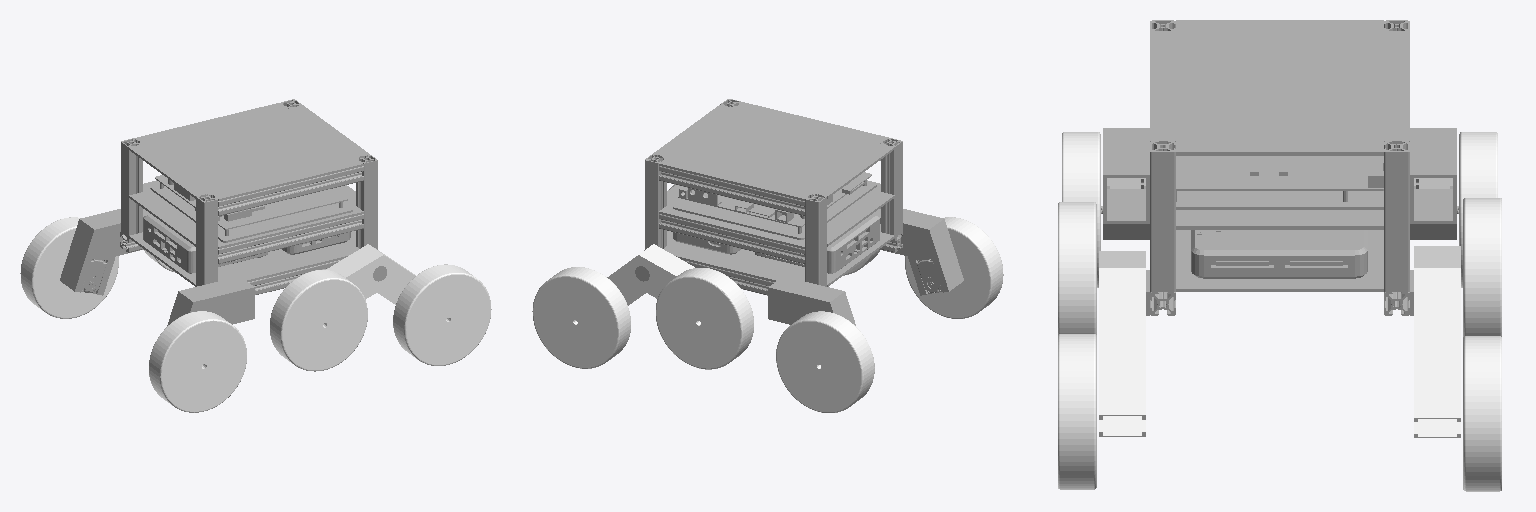
URDF robot description (rockerbogie_urdf_modified):
<?xml version="1.0" encoding="utf-8"?>
<!-- This URDF was automatically created by SolidWorks to URDF Exporter! Originally created by [author] ([email redacted]) 
     Commit Version: 1.6.0-1-g15f4949  Build Version: 1.6.7594.29634
     For more information, please see http://wiki.ros.org/sw_urdf_exporter -->
<robot
  name="rockerbogie_urdf_modified">
  <link
    name="base_link">
    <inertial>
      <origin
        xyz="-0.0118358388008823 -9.8542609147656E-07 0.156569924779582"
        rpy="0 0 0" />
      <mass
        value="2.47556235264343" />
      <inertia
        ixx="0.0033305673628084"
        ixy="1.27251014235594E-06"
        ixz="-3.10947731589501E-05"
        iyy="0.00593147232902395"
        iyz="1.03891627054019E-07"
        izz="0.00841295540740798" />
    </inertial>
    <visual>
      <origin
        xyz="0 0 0"
        rpy="0 0 0" />
      <geometry>
        <mesh
          filename="package://rockerbogie_urdf_modified/meshes/base_link.STL" />
      </geometry>
      <material
        name="">
        <color
          rgba="0.752941176470588 0.752941176470588 0.752941176470588 1" />
      </material>
    </visual>
    <collision>
      <origin
        xyz="0 0 0"
        rpy="0 0 0" />
      <geometry>
        <mesh
          filename="package://rockerbogie_urdf_modified/meshes/base_link.STL" />
      </geometry>
    </collision>
  </link>
  <link
    name="body_link">
    <inertial>
      <origin
        xyz="-0.0118358388008823 -9.85426091421049E-07 0.036580460556831"
        rpy="0 0 0" />
      <mass
        value="2.47556235264343" />
      <inertia
        ixx="0.0033305673628084"
        ixy="1.27251014235594E-06"
        ixz="-3.10947731589501E-05"
        iyy="0.00593147232902395"
        iyz="1.03891627054022E-07"
        izz="0.00841295540740798" />
    </inertial>
    <visual>
      <origin
        xyz="0 0 0"
        rpy="0 0 0" />
      <geometry>
        <mesh
          filename="package://rockerbogie_urdf_modified/meshes/body_link.STL" />
      </geometry>
      <material
        name="">
        <color
          rgba="0.752941176470588 0.752941176470588 0.752941176470588 1" />
      </material>
    </visual>
    <collision>
      <origin
        xyz="0 0 0"
        rpy="0 0 0" />
      <geometry>
        <mesh
          filename="package://rockerbogie_urdf_modified/meshes/body_link.STL" />
      </geometry>
    </collision>
  </link>
  <joint
    name="body_joint"
    type="fixed">
    <origin
      xyz="0 0 0.119989464222751"
      rpy="0 0 0" />
    <parent
      link="base_link" />
    <child
      link="body_link" />
    <axis
      xyz="0 0 0" />
  </joint>
  <link
    name="leg1_link">
    <inertial>
      <origin
        xyz="-0.00545596256305897 -0.0180000000000001 -0.0239335095394691"
        rpy="0 0 0" />
      <mass
        value="0.0837983492960037" />
      <inertia
        ixx="6.79563222066731E-05"
        ixy="-1.11485158774801E-19"
        ixz="4.1605414393665E-05"
        iyy="0.000279469531497121"
        iyz="5.20756959867287E-20"
        izz="0.000240981053606066" />
    </inertial>
    <visual>
      <origin
        xyz="0 0 0"
        rpy="0 0 0" />
      <geometry>
        <mesh
          filename="package://rockerbogie_urdf_modified/meshes/leg1_link.STL" />
      </geometry>
      <material
        name="">
        <color
          rgba="1 1 1 1" />
      </material>
    </visual>
    <collision>
      <origin
        xyz="0 0 0"
        rpy="0 0 0" />
      <geometry>
        <mesh
          filename="package://rockerbogie_urdf_modified/meshes/leg1_link.STL" />
      </geometry>
    </collision>
  </link>
  <joint
    name="leg1_joint"
    type="continuous">
    <origin
      xyz="0.0999999999999999 0.139 -0.0099978167969167"
      rpy="0 0 0" />
    <parent
      link="body_link" />
    <child
      link="leg1_link" />
    <axis
      xyz="0 1 0" />
    <limit
      lower="0"
      upper="0"
      effort="0"
      velocity="0" />
  </joint>
  <link
    name="11_link">
    <inertial>
      <origin
        xyz="6.66133814775094E-16 0.01225 -4.16333634234434E-17"
        rpy="0 0 0" />
      <mass
        value="0.344407191683159" />
      <inertia
        ixx="0.000336046122038097"
        ixy="-1.97510250366014E-19"
        ixz="4.18610807918571E-20"
        iyy="0.000620610570997954"
        iyz="-5.39983504407256E-23"
        izz="0.000336046122038097" />
    </inertial>
    <visual>
      <origin
        xyz="0 0 0"
        rpy="0 0 0" />
      <geometry>
        <mesh
          filename="package://rockerbogie_urdf_modified/meshes/11_link.STL" />
      </geometry>
      <material
        name="">
        <color
          rgba="1 1 1 1" />
      </material>
    </visual>
    <collision>
      <origin
        xyz="0 0 0"
        rpy="0 0 0" />
      <geometry>
        <mesh
          filename="package://rockerbogie_urdf_modified/meshes/11_link.STL" />
      </geometry>
    </collision>
  </link>
  <joint
    name="11_joint"
    type="continuous">
    <origin
      xyz="0.073323 0.00475 -0.067998"
      rpy="0 0 0" />
    <parent
      link="leg1_link" />
    <child
      link="11_link" />
    <axis
      xyz="0 1 0" />
  </joint>
  <link
    name="12_link">
    <inertial>
      <origin
        xyz="0 0.01225 9.0205620750794E-17"
        rpy="0 0 0" />
      <mass
        value="0.344407191683159" />
      <inertia
        ixx="0.000336046122038096"
        ixy="-1.97611497272991E-19"
        ixz="-3.87287348324854E-20"
        iyy="0.000620610570997954"
        iyz="1.88994226302792E-22"
        izz="0.000336046122038096" />
    </inertial>
    <visual>
      <origin
        xyz="0 0 0"
        rpy="0 0 0" />
      <geometry>
        <mesh
          filename="package://rockerbogie_urdf_modified/meshes/12_link.STL" />
      </geometry>
      <material
        name="">
        <color
          rgba="1 1 1 1" />
      </material>
    </visual>
    <collision>
      <origin
        xyz="0 0 0"
        rpy="0 0 0" />
      <geometry>
        <mesh
          filename="package://rockerbogie_urdf_modified/meshes/12_link.STL" />
      </geometry>
    </collision>
  </link>
  <joint
    name="12_joint"
    type="continuous">
    <origin
      xyz="-0.095549 0.00475 -0.029501"
      rpy="0 0 0" />
    <parent
      link="leg1_link" />
    <child
      link="12_link" />
    <axis
      xyz="0 1 0" />
  </joint>
  <link
    name="leg2_link">
    <inertial>
      <origin
        xyz="-0.0046258540709096 0.0180000000000002 -0.0241077141280547"
        rpy="0 0 0" />
      <mass
        value="0.0837983492960036" />
      <inertia
        ixx="6.52897967480928E-05"
        ixy="8.86085270551766E-18"
        ixz="3.55320319937771E-05"
        iyy="0.000279469531497121"
        iyz="-1.49938998508397E-18"
        izz="0.000243647579064646" />
    </inertial>
    <visual>
      <origin
        xyz="0 0 0"
        rpy="0 0 0" />
      <geometry>
        <mesh
          filename="package://rockerbogie_urdf_modified/meshes/leg2_link.STL" />
      </geometry>
      <material
        name="">
        <color
          rgba="1 1 1 1" />
      </material>
    </visual>
    <collision>
      <origin
        xyz="0 0 0"
        rpy="0 0 0" />
      <geometry>
        <mesh
          filename="package://rockerbogie_urdf_modified/meshes/leg2_link.STL" />
      </geometry>
    </collision>
  </link>
  <joint
    name="leg2_joint"
    type="continuous">
    <origin
      xyz="0.0999999999999941 -0.139000000000004 -0.0099978167969167"
      rpy="0 0 0" />
    <parent
      link="body_link" />
    <child
      link="leg2_link" />
    <axis
      xyz="0 -1 0" />
    <limit
      lower="0"
      upper="0"
      effort="0"
      velocity="0" />
  </joint>
  <link
    name="21_link">
    <inertial>
      <origin
        xyz="4.44089209850063E-16 -0.01225 -8.04911692853238E-16"
        rpy="0 0 0" />
      <mass
        value="0.344407191683159" />
      <inertia
        ixx="0.000336046122038096"
        ixy="1.16380553020743E-17"
        ixz="3.51149848785042E-20"
        iyy="0.000620610570997954"
        iyz="7.83804194481339E-20"
        izz="0.000336046122038096" />
    </inertial>
    <visual>
      <origin
        xyz="0 0 0"
        rpy="0 0 0" />
      <geometry>
        <mesh
          filename="package://rockerbogie_urdf_modified/meshes/21_link.STL" />
      </geometry>
      <material
        name="">
        <color
          rgba="1 1 1 1" />
      </material>
    </visual>
    <collision>
      <origin
        xyz="0 0 0"
        rpy="0 0 0" />
      <geometry>
        <mesh
          filename="package://rockerbogie_urdf_modified/meshes/21_link.STL" />
      </geometry>
    </collision>
  </link>
  <joint
    name="21_joint"
    type="continuous">
    <origin
      xyz="0.075629 -0.00475 -0.065424"
      rpy="0 0 0" />
    <parent
      link="leg2_link" />
    <child
      link="21_link" />
    <axis
      xyz="0 1 0" />
  </joint>
  <link
    name="22_link">
    <inertial>
      <origin
        xyz="-4.9960036108132E-16 -0.01225 -4.85722573273506E-17"
        rpy="0 0 0" />
      <mass
        value="0.344407191683159" />
      <inertia
        ixx="0.000336046122038096"
        ixy="1.17058196548046E-17"
        ixz="3.34734613931062E-20"
        iyy="0.000620610570997954"
        iyz="1.78560626036173E-21"
        izz="0.000336046122038097" />
    </inertial>
    <visual>
      <origin
        xyz="0 0 0"
        rpy="0 0 0" />
      <geometry>
        <mesh
          filename="package://rockerbogie_urdf_modified/meshes/22_link.STL" />
      </geometry>
      <material
        name="">
        <color
          rgba="1 1 1 1" />
      </material>
    </visual>
    <collision>
      <origin
        xyz="0 0 0"
        rpy="0 0 0" />
      <geometry>
        <mesh
          filename="package://rockerbogie_urdf_modified/meshes/22_link.STL" />
      </geometry>
    </collision>
  </link>
  <joint
    name="22_joint"
    type="continuous">
    <origin
      xyz="-0.094473 -0.00475 -0.032784"
      rpy="0 0 0" />
    <parent
      link="leg2_link" />
    <child
      link="22_link" />
    <axis
      xyz="0 1 0" />
  </joint>
  <link
    name="13_link">
    <inertial>
      <origin
        xyz="0 0.01225 -6.93889390390723E-18"
        rpy="0 0 0" />
      <mass
        value="0.344407191683159" />
      <inertia
        ixx="0.000336046122038097"
        ixy="-1.97456252015627E-19"
        ixz="-4.16105803878318E-20"
        iyy="0.000620610570997954"
        iyz="-5.33256280878563E-32"
        izz="0.000336046122038096" />
    </inertial>
    <visual>
      <origin
        xyz="0 0 0"
        rpy="0 0 0" />
      <geometry>
        <mesh
          filename="package://rockerbogie_urdf_modified/meshes/13_link.STL" />
      </geometry>
      <material
        name="">
        <color
          rgba="1 1 1 1" />
      </material>
    </visual>
    <collision>
      <origin
        xyz="0 0 0"
        rpy="0 0 0" />
      <geometry>
        <mesh
          filename="package://rockerbogie_urdf_modified/meshes/13_link.STL" />
      </geometry>
    </collision>
  </link>
  <joint
    name="13_joint"
    type="continuous">
    <origin
      xyz="-0.1592 0.14075 -0.059989"
      rpy="0 0 0" />
    <parent
      link="body_link" />
    <child
      link="13_link" />
    <axis
      xyz="0 1 0" />
  </joint>
  <link
    name="23_link">
    <inertial>
      <origin
        xyz="5.55111512312578E-17 -0.01225 -6.24500451351651E-17"
        rpy="0 0 0" />
      <mass
        value="0.34440719168316" />
      <inertia
        ixx="0.000336046122038097"
        ixy="-1.66381129941372E-19"
        ixz="2.08069512759835E-20"
        iyy="0.000620610570997954"
        iyz="9.26198944431243E-21"
        izz="0.000336046122038097" />
    </inertial>
    <visual>
      <origin
        xyz="0 0 0"
        rpy="0 0 0" />
      <geometry>
        <mesh
          filename="package://rockerbogie_urdf_modified/meshes/23_link.STL" />
      </geometry>
      <material
        name="">
        <color
          rgba="1 1 1 1" />
      </material>
    </visual>
    <collision>
      <origin
        xyz="0 0 0"
        rpy="0 0 0" />
      <geometry>
        <mesh
          filename="package://rockerbogie_urdf_modified/meshes/23_link.STL" />
      </geometry>
    </collision>
  </link>
  <joint
    name="23_joint"
    type="continuous">
    <origin
      xyz="-0.1592 -0.14075 -0.059989"
      rpy="0 0 0" />
    <parent
      link="body_link" />
    <child
      link="23_link" />
    <axis
      xyz="0 1 0" />
  </joint>
</robot>

--- Facts derived from the render (not from the file) ---
Views: 3 orthographic renders of the robot side by side, from view 1: azimuth 30°, elevation 25°; view 2: azimuth 150°, elevation 25°; view 3: azimuth 270°, elevation 25°.
Model rockerbogie_urdf_modified with 10 links and 9 joints (8 continuous, 1 fixed), rooted at base_link, posed every joint at zero.
Visible links, largest first — view 1: base_link, 23_link, 21_link, 22_link, 13_link, leg2_link, body_link; view 2: base_link, 13_link, 11_link, 12_link, 23_link, leg1_link, body_link; view 3: base_link, leg1_link, leg2_link, 21_link, 11_link, 12_link, 22_link, 23_link, 13_link.
Link boxes in pixels (x1,y1,x2,y2): base_link: (60,99,386,325); 23_link: (149,311,246,412); 21_link: (393,264,491,365); 22_link: (270,270,367,371); 13_link: (20,217,118,318); leg2_link: (326,244,415,304); body_link: (81,168,363,294); base_link: (635,99,963,325); 13_link: (776,311,874,412); 11_link: (532,267,630,368); 12_link: (656,268,753,369); 23_link: (905,217,1003,318); leg1_link: (607,244,694,305); body_link: (659,160,941,295); base_link: (1101,20,1458,315); leg1_link: (1414,246,1460,437); leg2_link: (1099,251,1145,436); 21_link: (1058,334,1096,489); 11_link: (1463,336,1501,491); 12_link: (1463,198,1501,336); 22_link: (1058,202,1096,334); 23_link: (1062,132,1100,287); 13_link: (1459,132,1497,287).
Size in the robot's own frame: 0.4548 by 0.342 by 0.257 metres.
10 mesh visuals loaded from 10 distinct referenced files (10 binary STL).